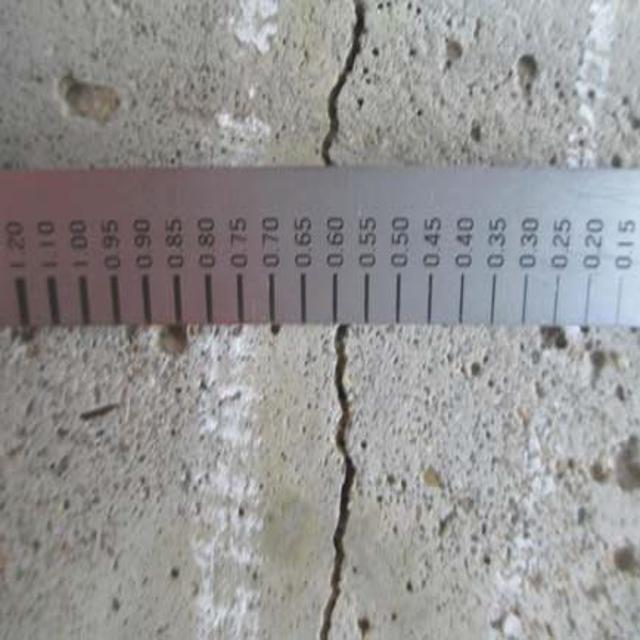crack: (294, 328, 381, 640), (297, 5, 373, 168)
